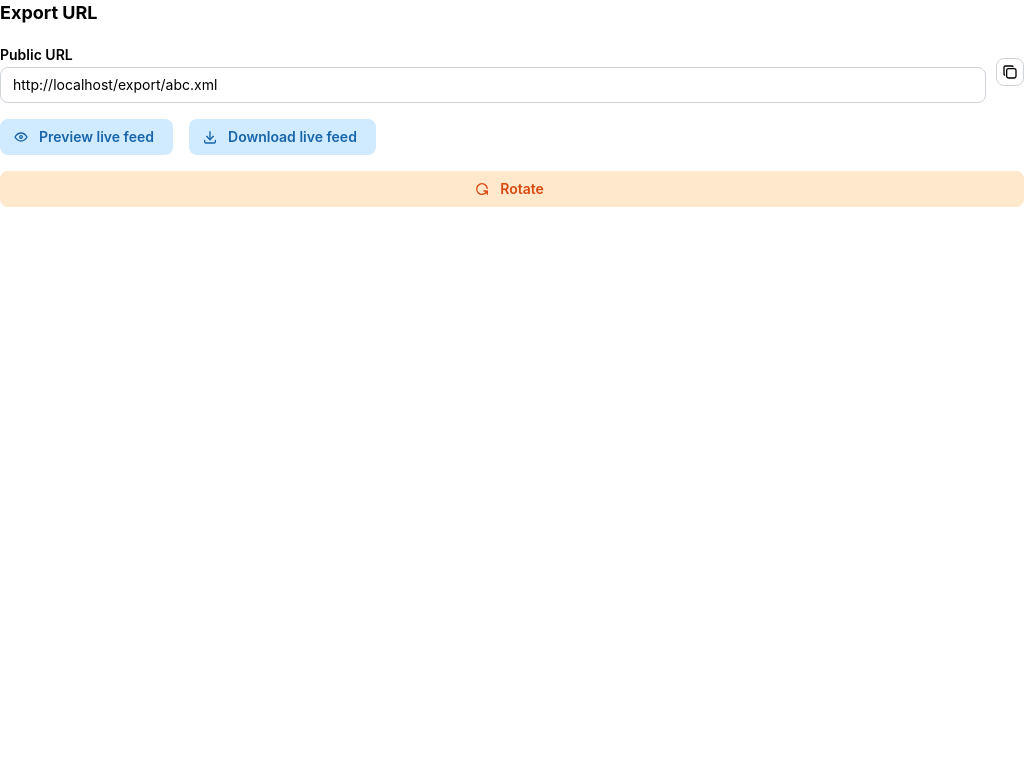
Test: ExportUrlBlock › shows the not-published state when the live feed 404s
Step 1. Click the button with test id "live-preview" → (86, 137), box [0,119,173,155]
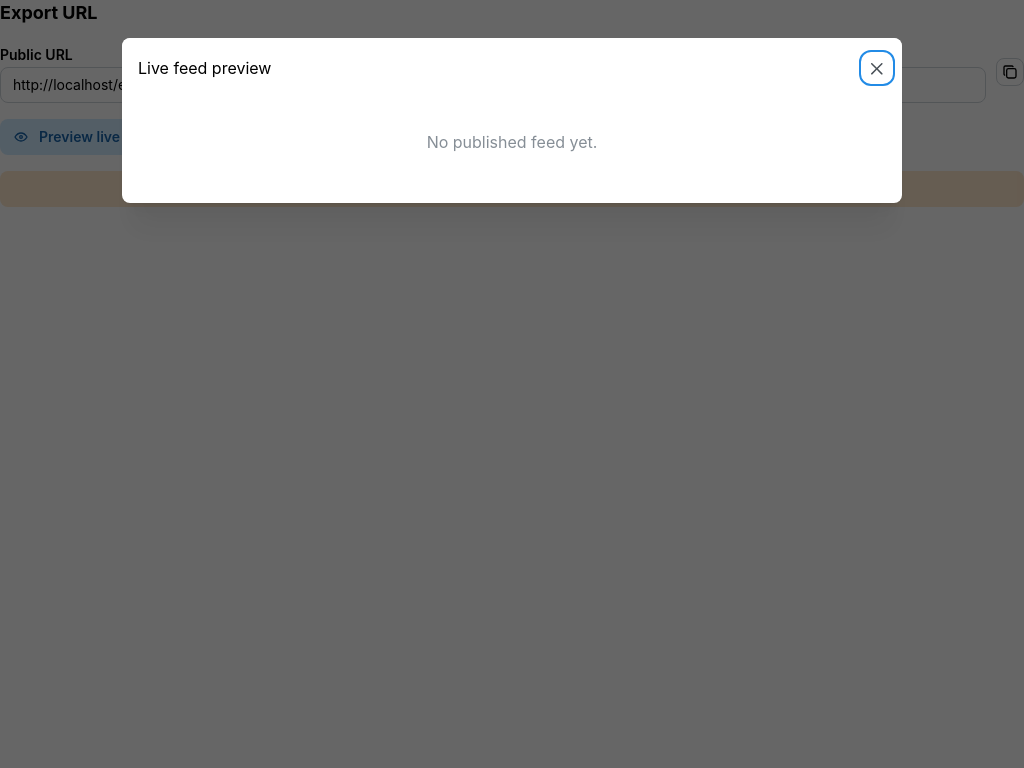
Expected: the text "No published feed yet." is shown, [427,130,597,155]
